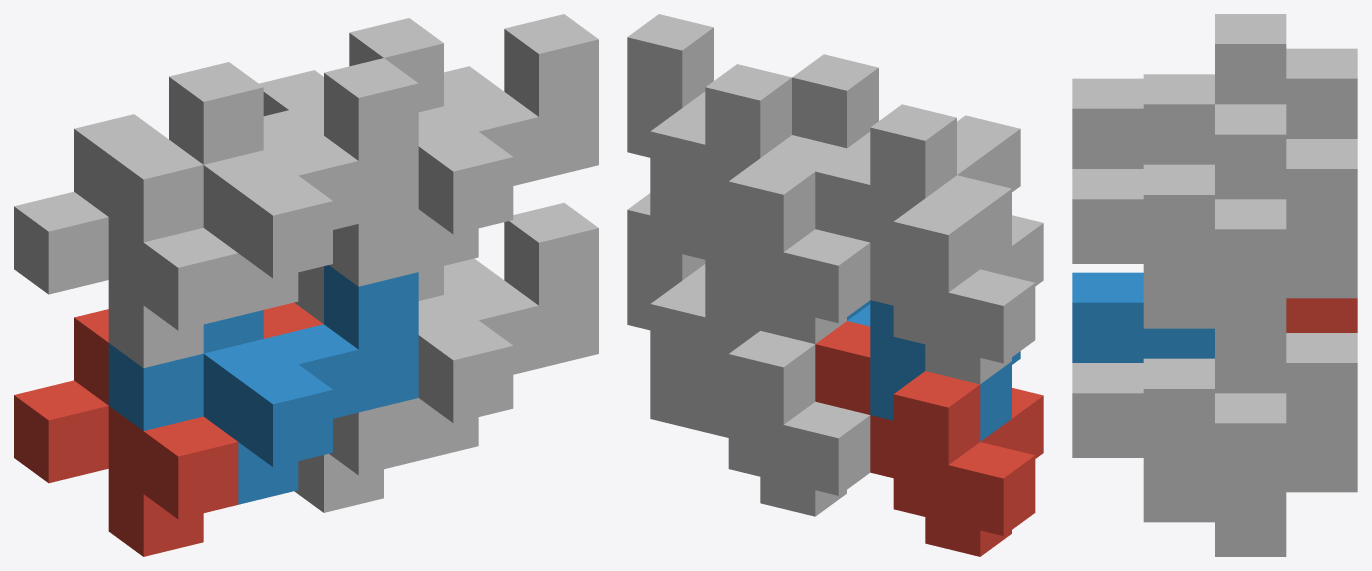
Rendered from tiling.obj.
3 views of the same model, side by side, from view 1: azimuth 30°, elevation 25°; view 2: azimuth 150°, elevation 25°; view 3: azimuth 270°, elevation 25° (orthographic). The views are drawn at different scales.
Parts seen in each view (by area): view 1: copy_1_domain_4, copy_1_domain_2, copy_1_domain_8, copy_1_domain_6, copy_1_domain_3, copy_1_domain_1, copy_1_domain_5, copy_1_domain_7; view 2: copy_1_domain_5, copy_1_domain_7, copy_1_domain_3, copy_1_domain_1, copy_1_domain_4, copy_1_domain_8, copy_1_domain_6, copy_1_domain_2; view 3: copy_1_domain_8, copy_1_domain_5, copy_1_domain_7, copy_1_domain_6, copy_1_domain_4, copy_1_domain_2, copy_1_domain_3, copy_1_domain_1.
Boxes of the visible parts, x1=… form: copy_1_domain_4: x1=108, y1=58, x2=418, y2=315; copy_1_domain_2: x1=108, y1=265, x2=418, y2=504; copy_1_domain_8: x1=289, y1=14, x2=598, y2=271; copy_1_domain_6: x1=418, y1=203, x2=598, y2=460; copy_1_domain_3: x1=14, y1=110, x2=323, y2=368; copy_1_domain_1: x1=14, y1=302, x2=323, y2=556; copy_1_domain_5: x1=294, y1=258, x2=503, y2=512; copy_1_domain_7: x1=259, y1=66, x2=503, y2=323; copy_1_domain_5: x1=650, y1=280, x2=870, y2=516; copy_1_domain_7: x1=650, y1=108, x2=870, y2=343; copy_1_domain_3: x1=815, y1=148, x2=1043, y2=384; copy_1_domain_1: x1=815, y1=321, x2=1043, y2=556; copy_1_domain_4: x1=792, y1=54, x2=1020, y2=268; copy_1_domain_8: x1=627, y1=14, x2=846, y2=207; copy_1_domain_6: x1=627, y1=193, x2=760, y2=380; copy_1_domain_2: x1=847, y1=300, x2=1020, y2=441; copy_1_domain_8: x1=1072, y1=104, x2=1286, y2=328; copy_1_domain_5: x1=1215, y1=333, x2=1357, y2=556; copy_1_domain_7: x1=1215, y1=139, x2=1357, y2=358; copy_1_domain_6: x1=1072, y1=358, x2=1286, y2=522; copy_1_domain_4: x1=1072, y1=14, x2=1286, y2=168; copy_1_domain_2: x1=1072, y1=272, x2=1214, y2=362; copy_1_domain_3: x1=1286, y1=48, x2=1357, y2=138; copy_1_domain_1: x1=1286, y1=298, x2=1357, y2=332.
Bounding box in the file's own units: 8 × 7 × 4.
